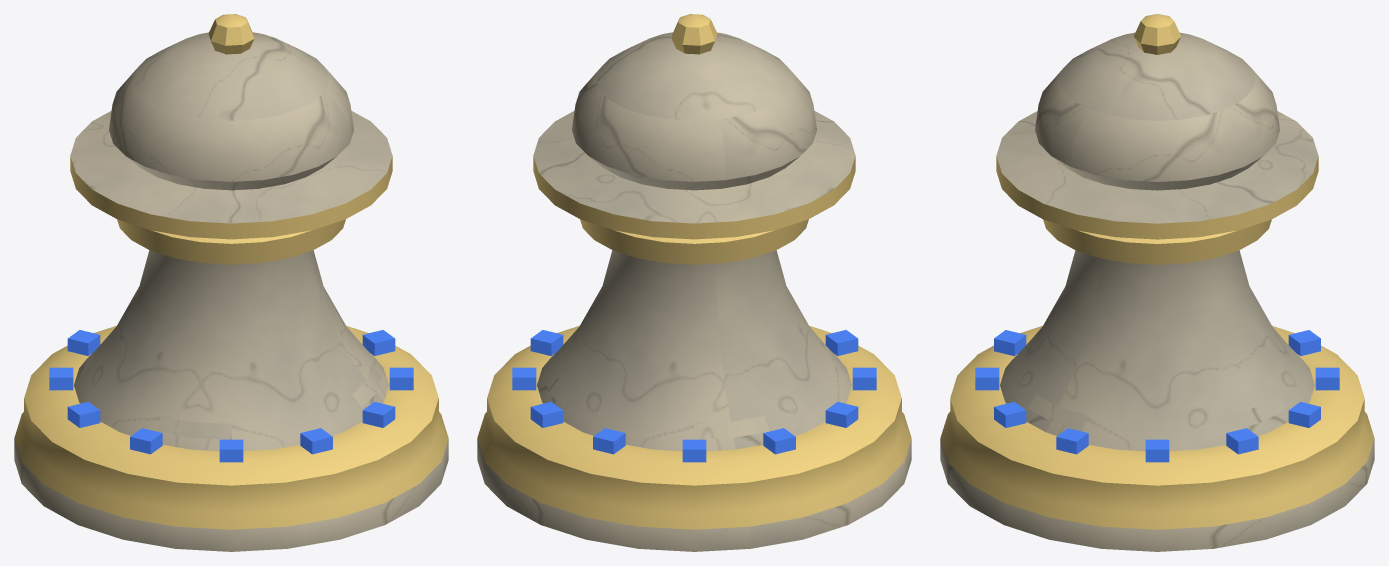
The model's file is pawn_light.glb.
3 renders of one model, left to right at view 1: azimuth 30°, elevation 25°; view 2: azimuth 150°, elevation 25°; view 3: azimuth 270°, elevation 25°, orthographic.
Parts seen in each view (by area): view 1: Piece_Pawn_Light_Mesh; view 2: Piece_Pawn_Light_Mesh; view 3: Piece_Pawn_Light_Mesh.
Boxes of the visible parts, x1,y1,x2,y2 form: Piece_Pawn_Light_Mesh: [14, 14, 448, 551]; Piece_Pawn_Light_Mesh: [477, 14, 911, 551]; Piece_Pawn_Light_Mesh: [940, 14, 1374, 551].
Size of the model in its own units: 0.62 by 0.702 by 0.62.
3 materials, 1 textured.
